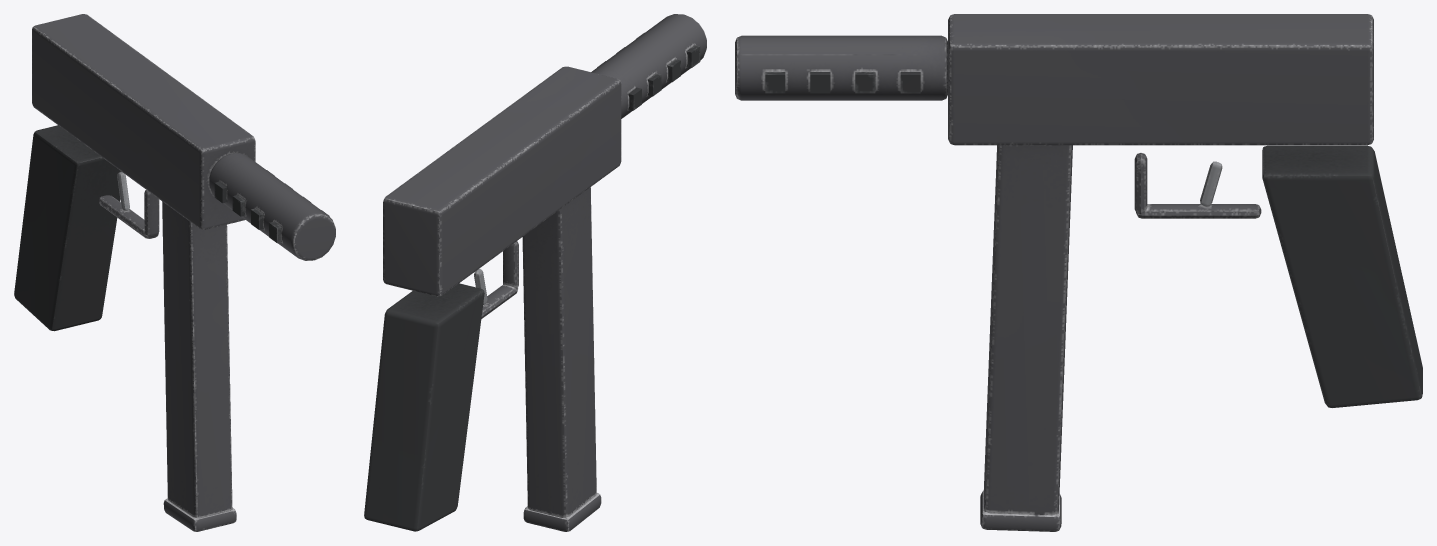
Rendered from tec9.fbx.
3 renders of one model, left to right at view 1: azimuth 30°, elevation 25°; view 2: azimuth 150°, elevation 25°; view 3: azimuth 270°, elevation 25°, orthographic. The views are drawn at different scales.
Parts seen in each view (by area): view 1: tec9; view 2: tec9; view 3: tec9.
Boxes of the visible parts, bbox=[...] form: tec9: bbox=[14, 14, 335, 531]; tec9: bbox=[364, 14, 706, 531]; tec9: bbox=[735, 14, 1422, 531].
Size of the model in its own units: 0.032 by 0.2169 by 0.2744.
